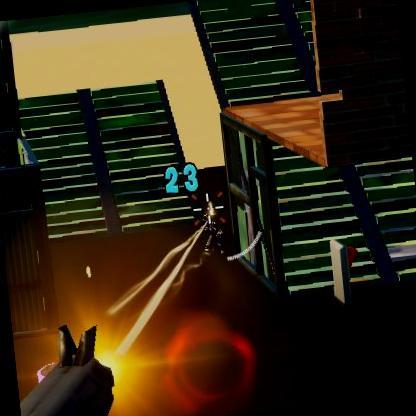person: (201, 200, 228, 256)
